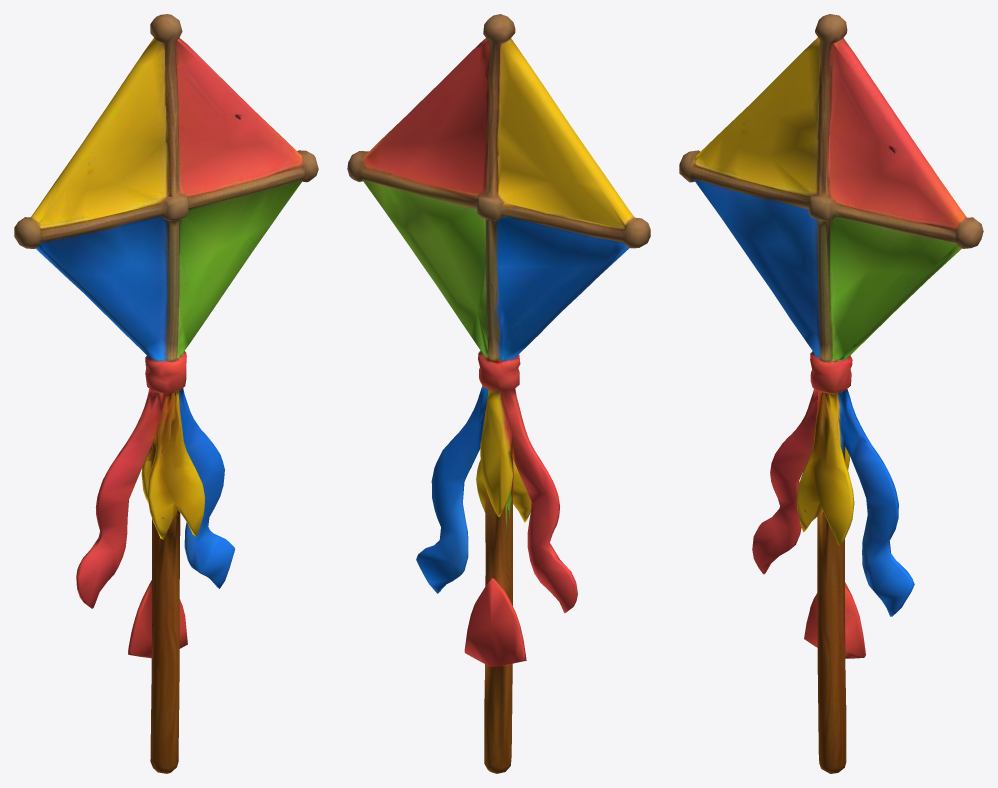
The model's file is kite.glb.
3 renders of one model, left to right at view 1: azimuth 30°, elevation 25°; view 2: azimuth 150°, elevation 25°; view 3: azimuth 330°, elevation 25°, orthographic.
Visible parts, largest first — view 1: model; view 2: model; view 3: model.
Part boxes in pixels (x1,y1,x2,y2): model: (14,14,318,773); model: (347,14,650,773); model: (679,14,983,773).
Size of the model in its own units: 0.7806 by 1.9 by 0.1242.
Materials: 1 (1 with a texture image).
